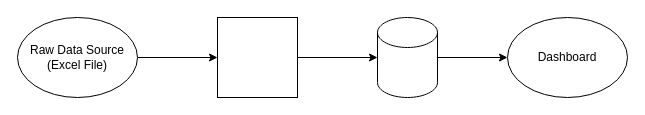
This 645x115 diagram has some shape labels left out. Each missing label, with the box of its shape:
DB: (376, 16, 438, 98)
ETL Processes: (216, 16, 298, 98)
